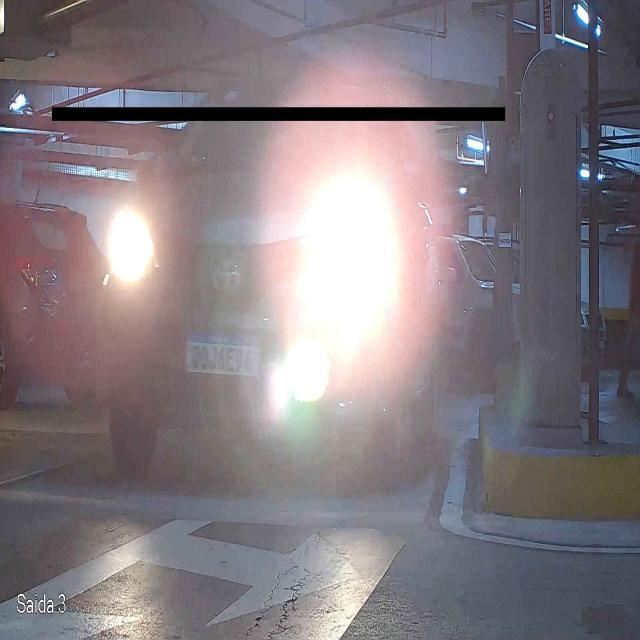mercosul_plate: (182, 332, 261, 379)
